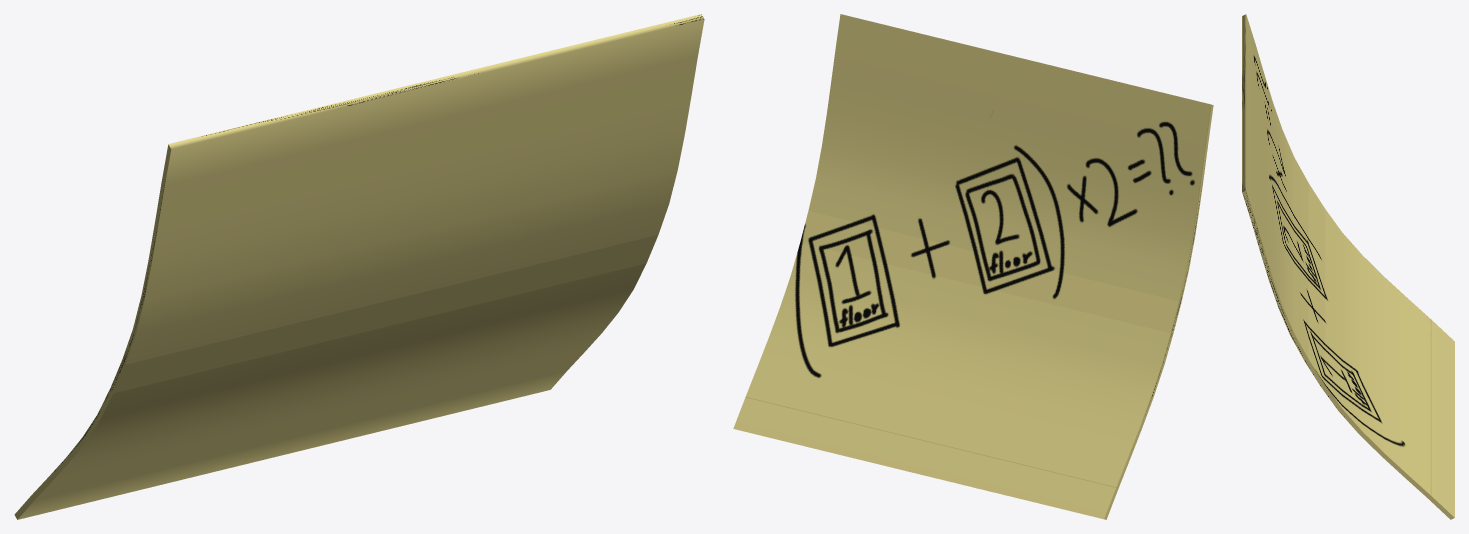
Rendered from 3Day Paper2.fbx.
3 renders of one model, left to right at view 1: azimuth 30°, elevation 25°; view 2: azimuth 150°, elevation 25°; view 3: azimuth 270°, elevation 25°, orthographic. The views are drawn at different scales.
Parts seen in each view (by area): view 1: Cube; view 2: Cube; view 3: Cube.
Boxes of the visible parts, left/top/right/bottom form: Cube: left=14, top=14, right=704, bottom=519; Cube: left=733, top=14, right=1213, bottom=519; Cube: left=1242, top=14, right=1454, bottom=519.
Size of the model in its own units: 200 by 174 by 102.
